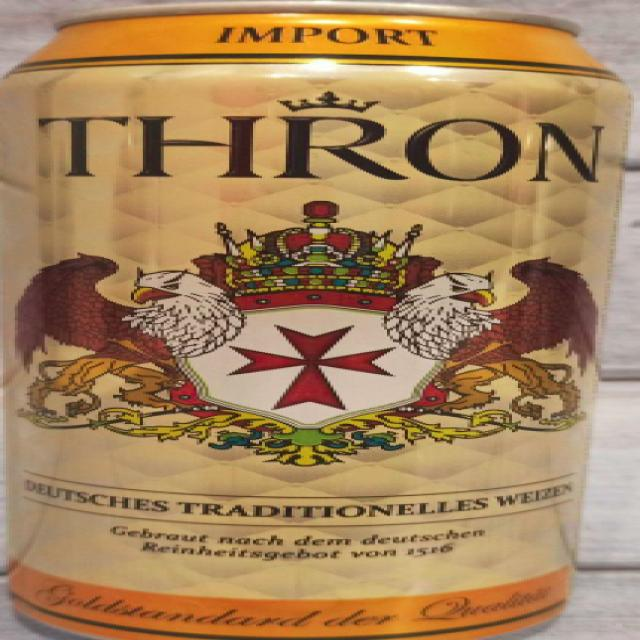THRON WEIZEN: (3, 0, 640, 640)
